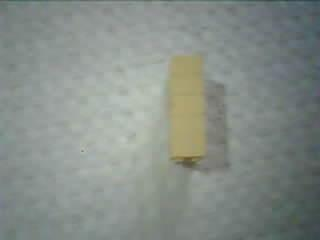lego: (164, 51, 210, 162)
